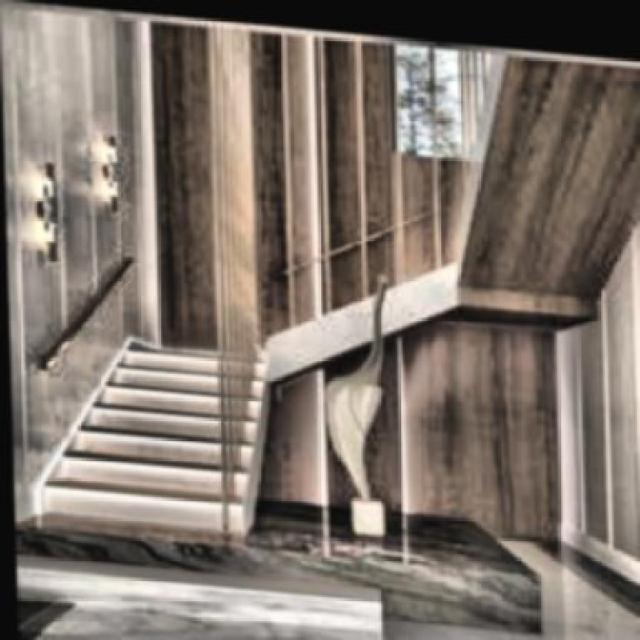stair: (31, 328, 294, 546)
